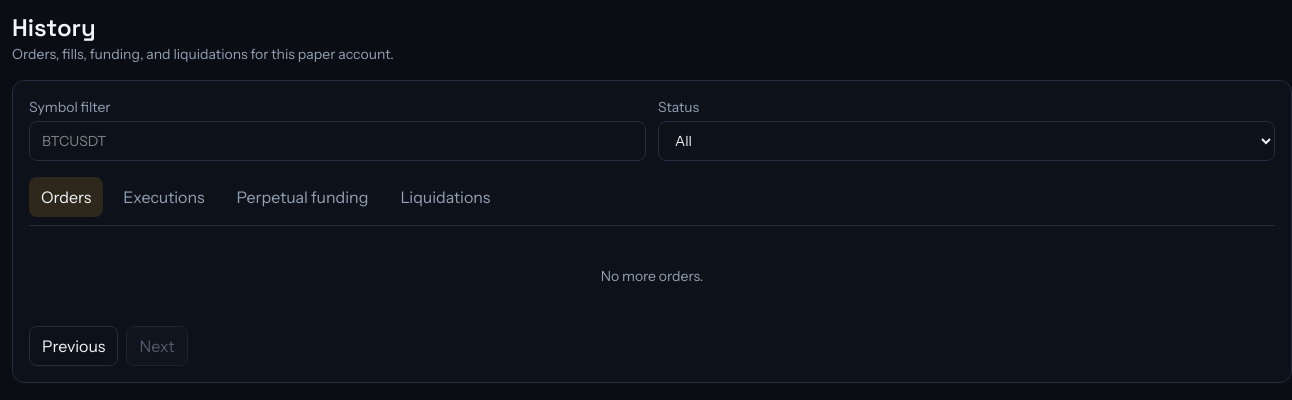
Scenario: HistoryPage › keeps Previous on an empty trailing page and omits offset 0 after going back
Check: the text "No more orders." is shown, box x1=601 y1=267 x2=703 y2=285
Check: the button "Next" is disabled, box x1=126 y1=326 x2=188 y2=366
Click the button "Previous".
click(74, 346)  # box x1=29 y1=326 x2=118 y2=366
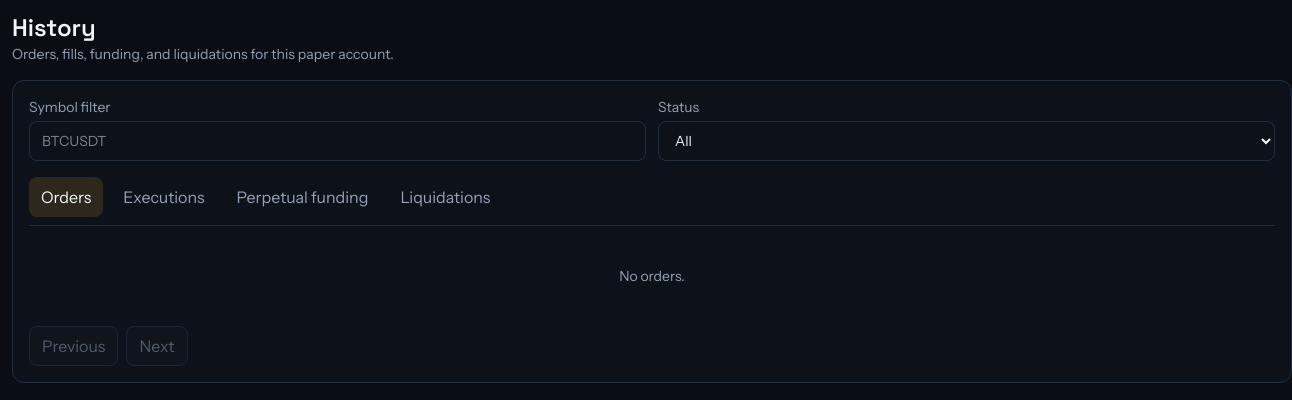
Check: the text "No orders." is shown, box x1=619 y1=267 x2=685 y2=285
Check: the button "Previous" is disabled, box x1=29 y1=326 x2=118 y2=366
